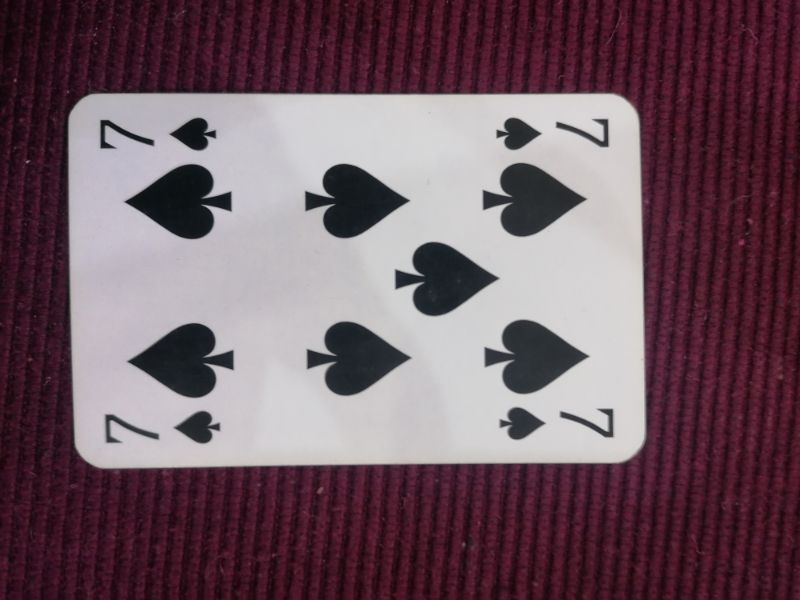7s: (94, 113, 228, 156), (96, 408, 228, 451), (494, 110, 614, 156), (496, 401, 619, 444)
